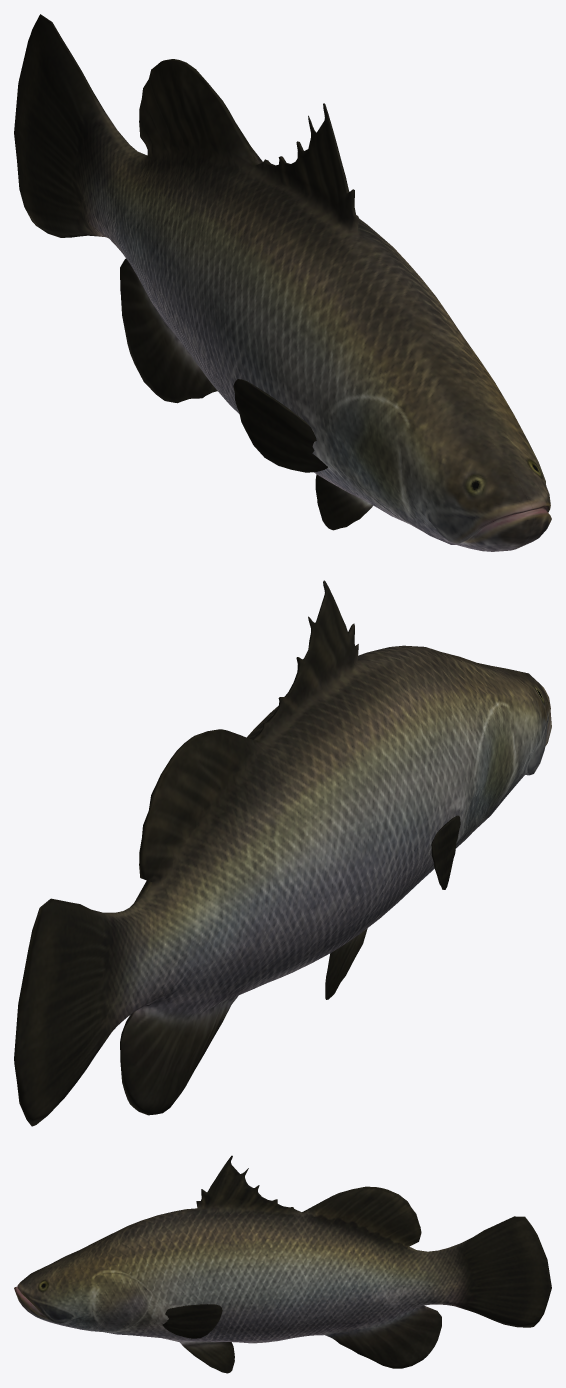
Rendered from ikan.glb.
3 renders of one model, top to bottom at view 1: azimuth 30°, elevation 25°; view 2: azimuth 150°, elevation 25°; view 3: azimuth 270°, elevation 25°, orthographic. The views are drawn at different scales.
Parts seen in each view (by area): view 1: BarramundiFish; view 2: BarramundiFish; view 3: BarramundiFish.
Part boxes in pixels (<box>): BarramundiFish: <box>14,14,551,551</box>; BarramundiFish: <box>14,580,551,1126</box>; BarramundiFish: <box>14,1155,551,1373</box>.
Size of the model in its own units: 0.1429 by 0.2875 by 0.6431.
1 material, 1 textured.
